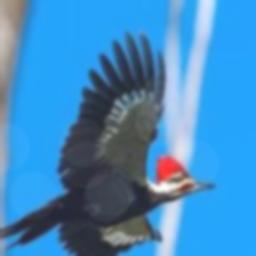Woodpecker: (0, 29, 214, 256)
